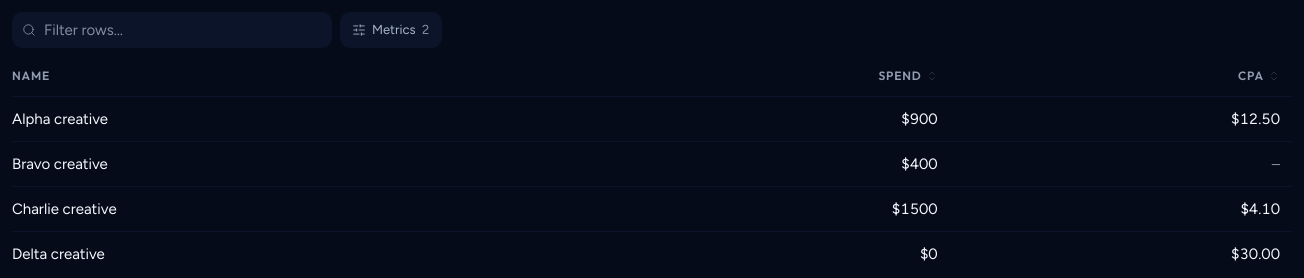
MetricTable · the reader picks the metrics › hides optional columns until they are chosen
Expected: the column heading "CTR" is not shown
Step 1. Click the button "Metrics 2" → x=391, y=30, box [340,12,442,48]
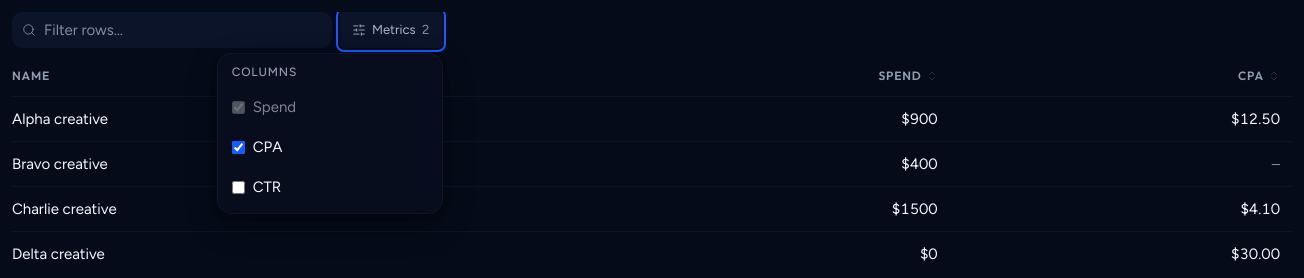
Step 2. Click the checkbox labelled "CTR" → x=238, y=187, box [232,181,245,194]
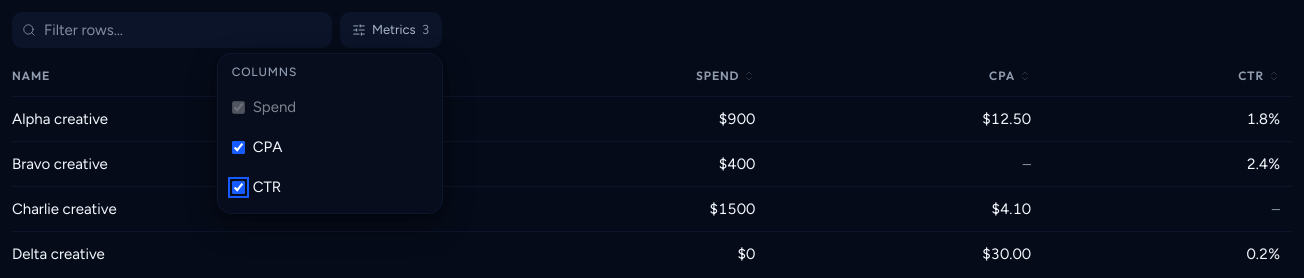
Expected: the column heading "CTR" is shown, [1043,56,1292,96]
